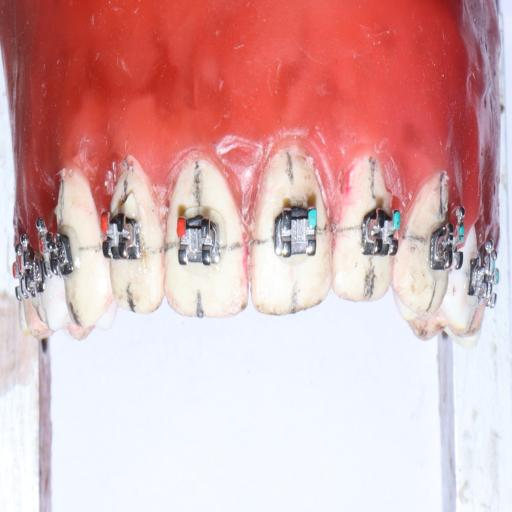incorrect_brace: (175, 204, 225, 276), (273, 194, 318, 264)
